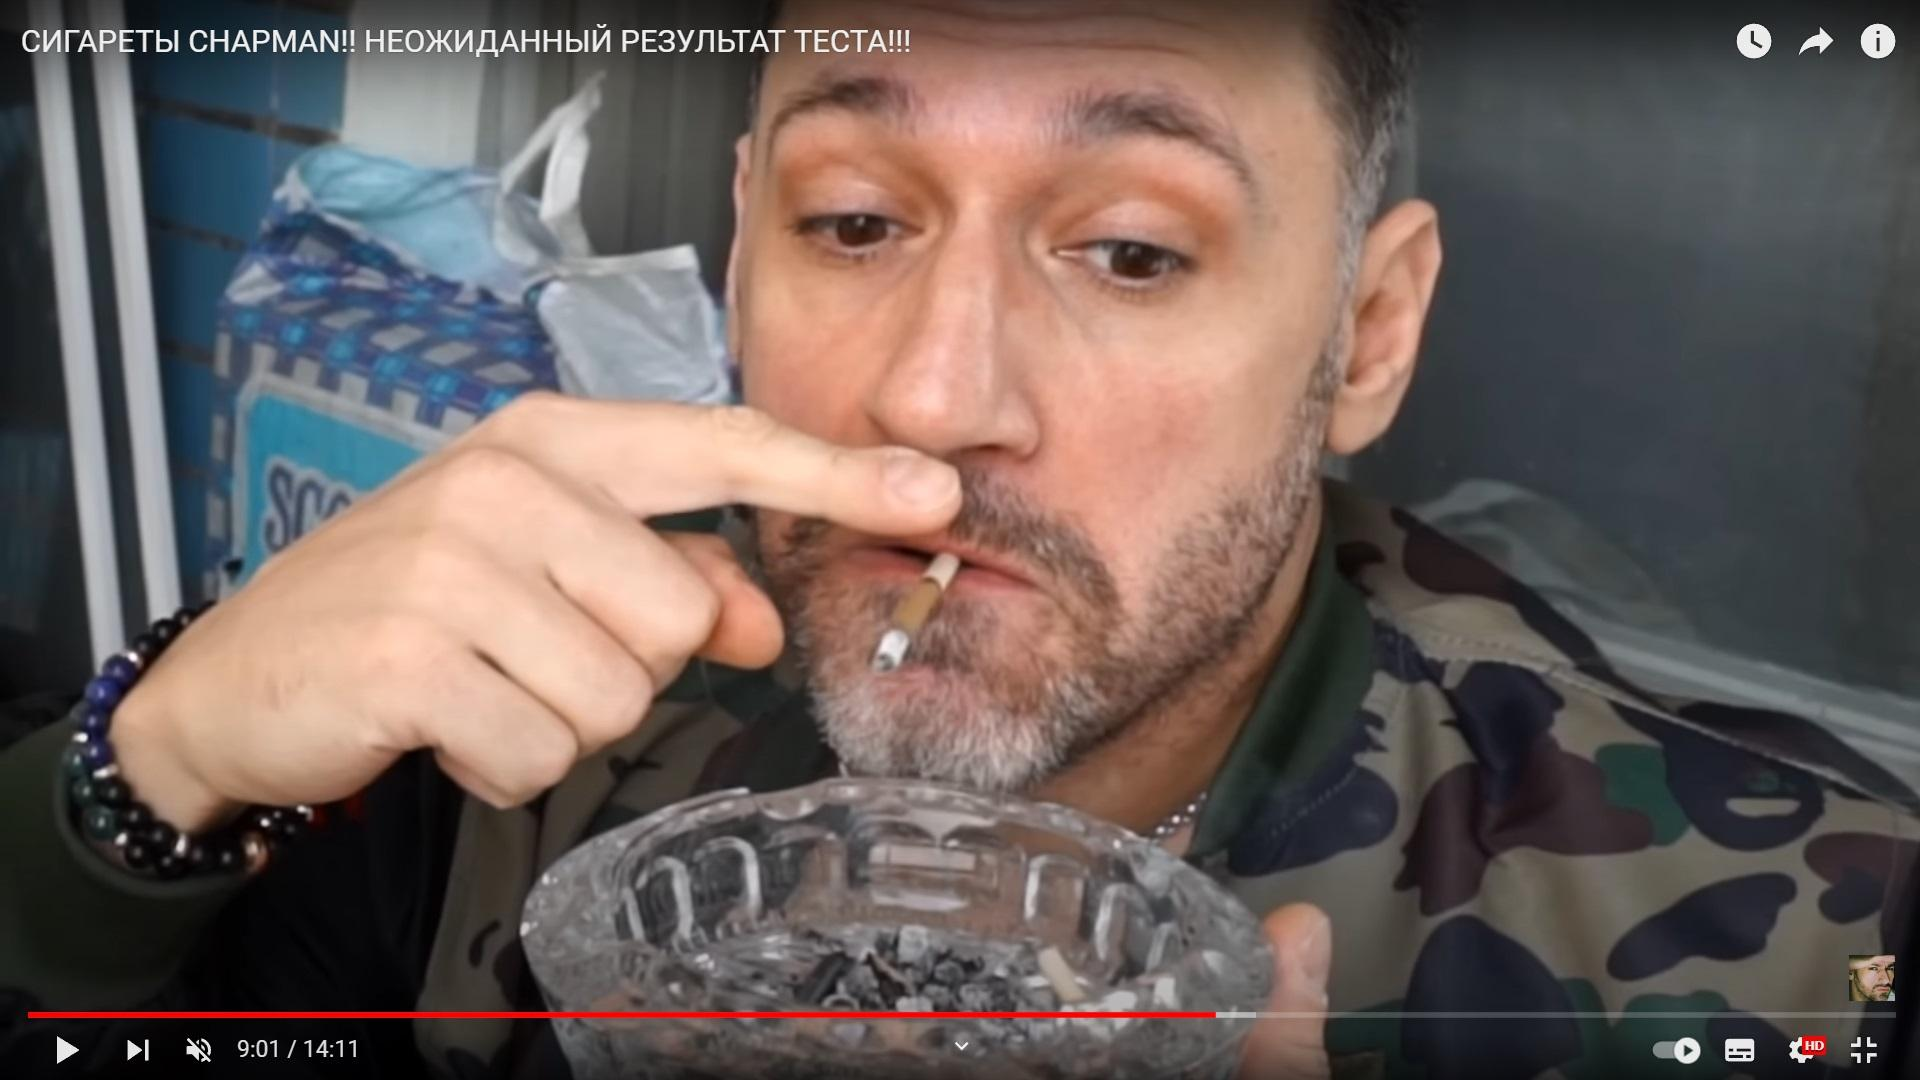cigarette: (869, 551, 965, 675)
